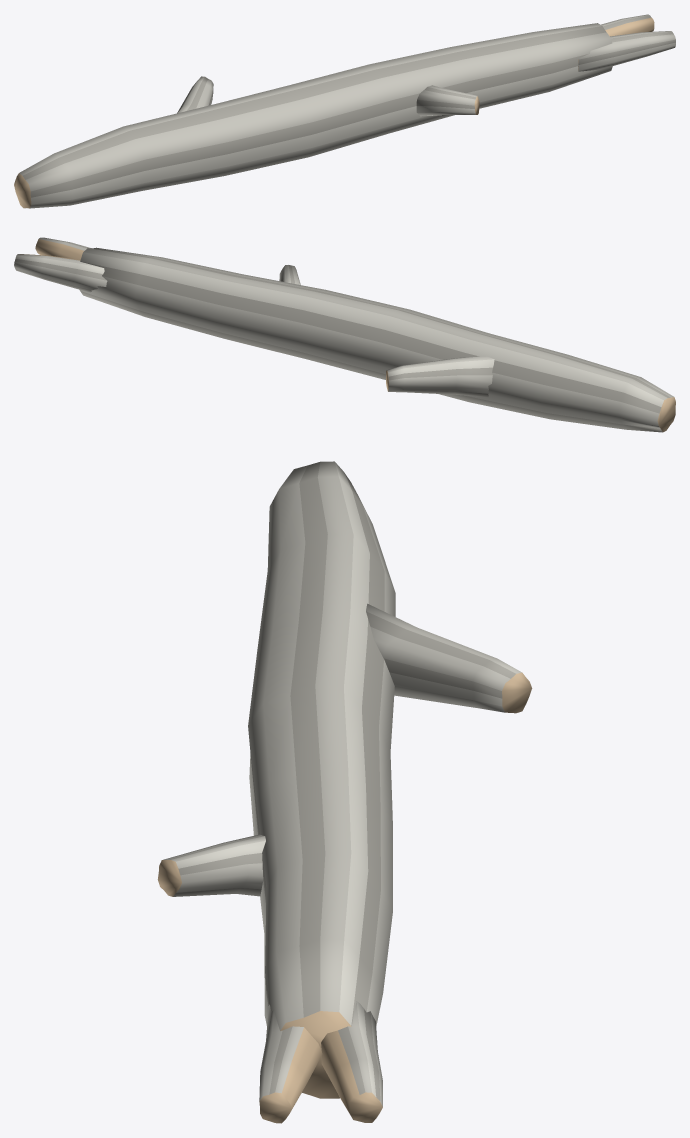
Rendered from driftwood.glb.
3 renders of one model, top to bottom at view 1: azimuth 30°, elevation 25°; view 2: azimuth 150°, elevation 25°; view 3: azimuth 270°, elevation 25°, orthographic. The views are drawn at different scales.
Parts seen in each view (by area): view 1: Driftwood | grooved main limb, Driftwood | split prong, Driftwood | short side stub, Driftwood | split prong.001, Driftwood | broken side stub; view 2: Driftwood | grooved main limb, Driftwood | broken side stub, Driftwood | split prong.001, Driftwood | split prong, Driftwood | short side stub; view 3: Driftwood | grooved main limb, Driftwood | broken side stub, Driftwood | short side stub, Driftwood | split prong.001, Driftwood | split prong.
Part boxes in pixels (<box>): Driftwood | grooved main limb: <box>14,23,612,208</box>; Driftwood | split prong: <box>578,31,675,71</box>; Driftwood | short side stub: <box>416,85,479,116</box>; Driftwood | split prong.001: <box>601,14,654,36</box>; Driftwood | broken side stub: <box>177,76,213,113</box>; Driftwood | grooved main limb: <box>79,247,675,432</box>; Driftwood | broken side stub: <box>386,356,494,397</box>; Driftwood | split prong.001: <box>14,254,107,292</box>; Driftwood | split prong: <box>35,237,91,259</box>; Driftwood | short side stub: <box>279,265,300,284</box>; Driftwood | grooved main limb: <box>248,461,395,1098</box>; Driftwood | broken side stub: <box>366,603,532,713</box>; Driftwood | short side stub: <box>157,834,265,896</box>; Driftwood | split prong.001: <box>321,1001,382,1122</box>; Driftwood | split prong: <box>259,1004,322,1123</box>.
Size of the model in its own units: 0.71 by 0.07 by 0.18.
